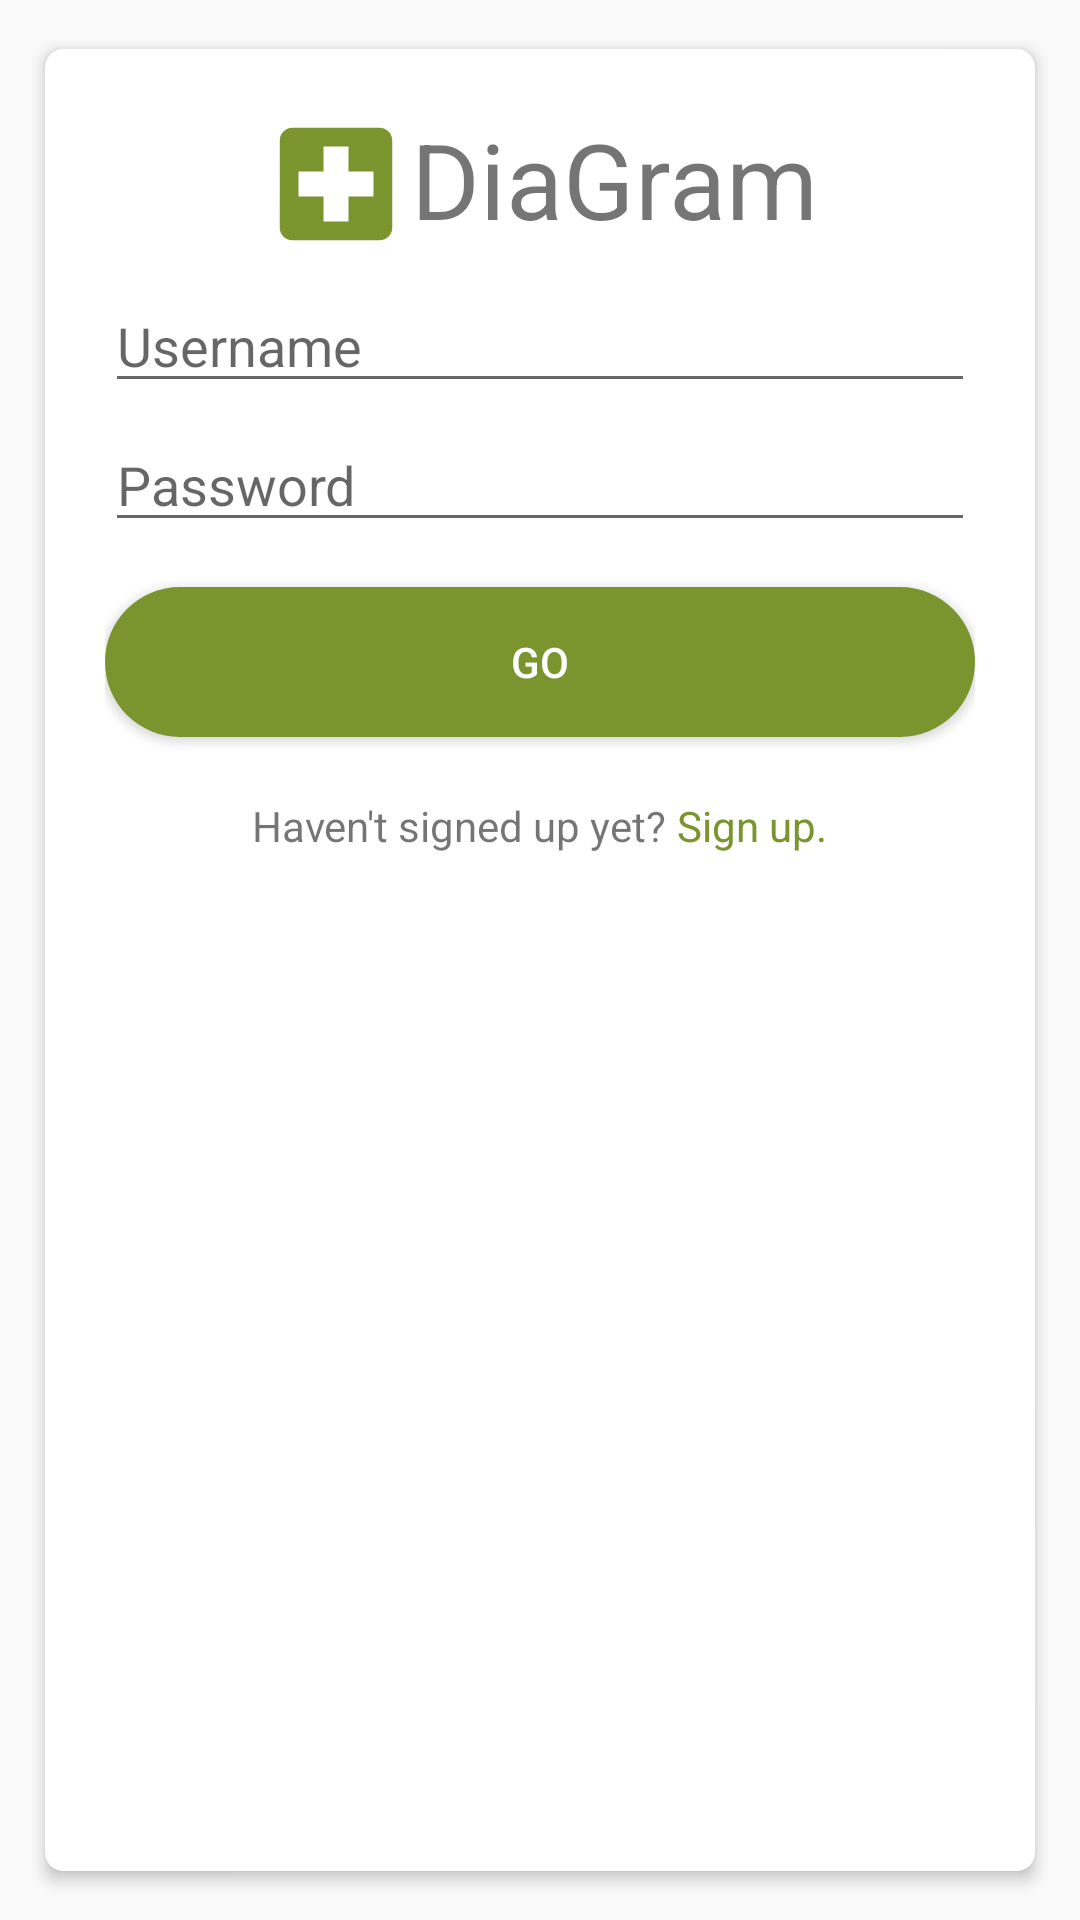

Screen size 1080w x 1920h. Icon name, then its center in pixels as point (x, y):
local hospital: point (336, 184)
